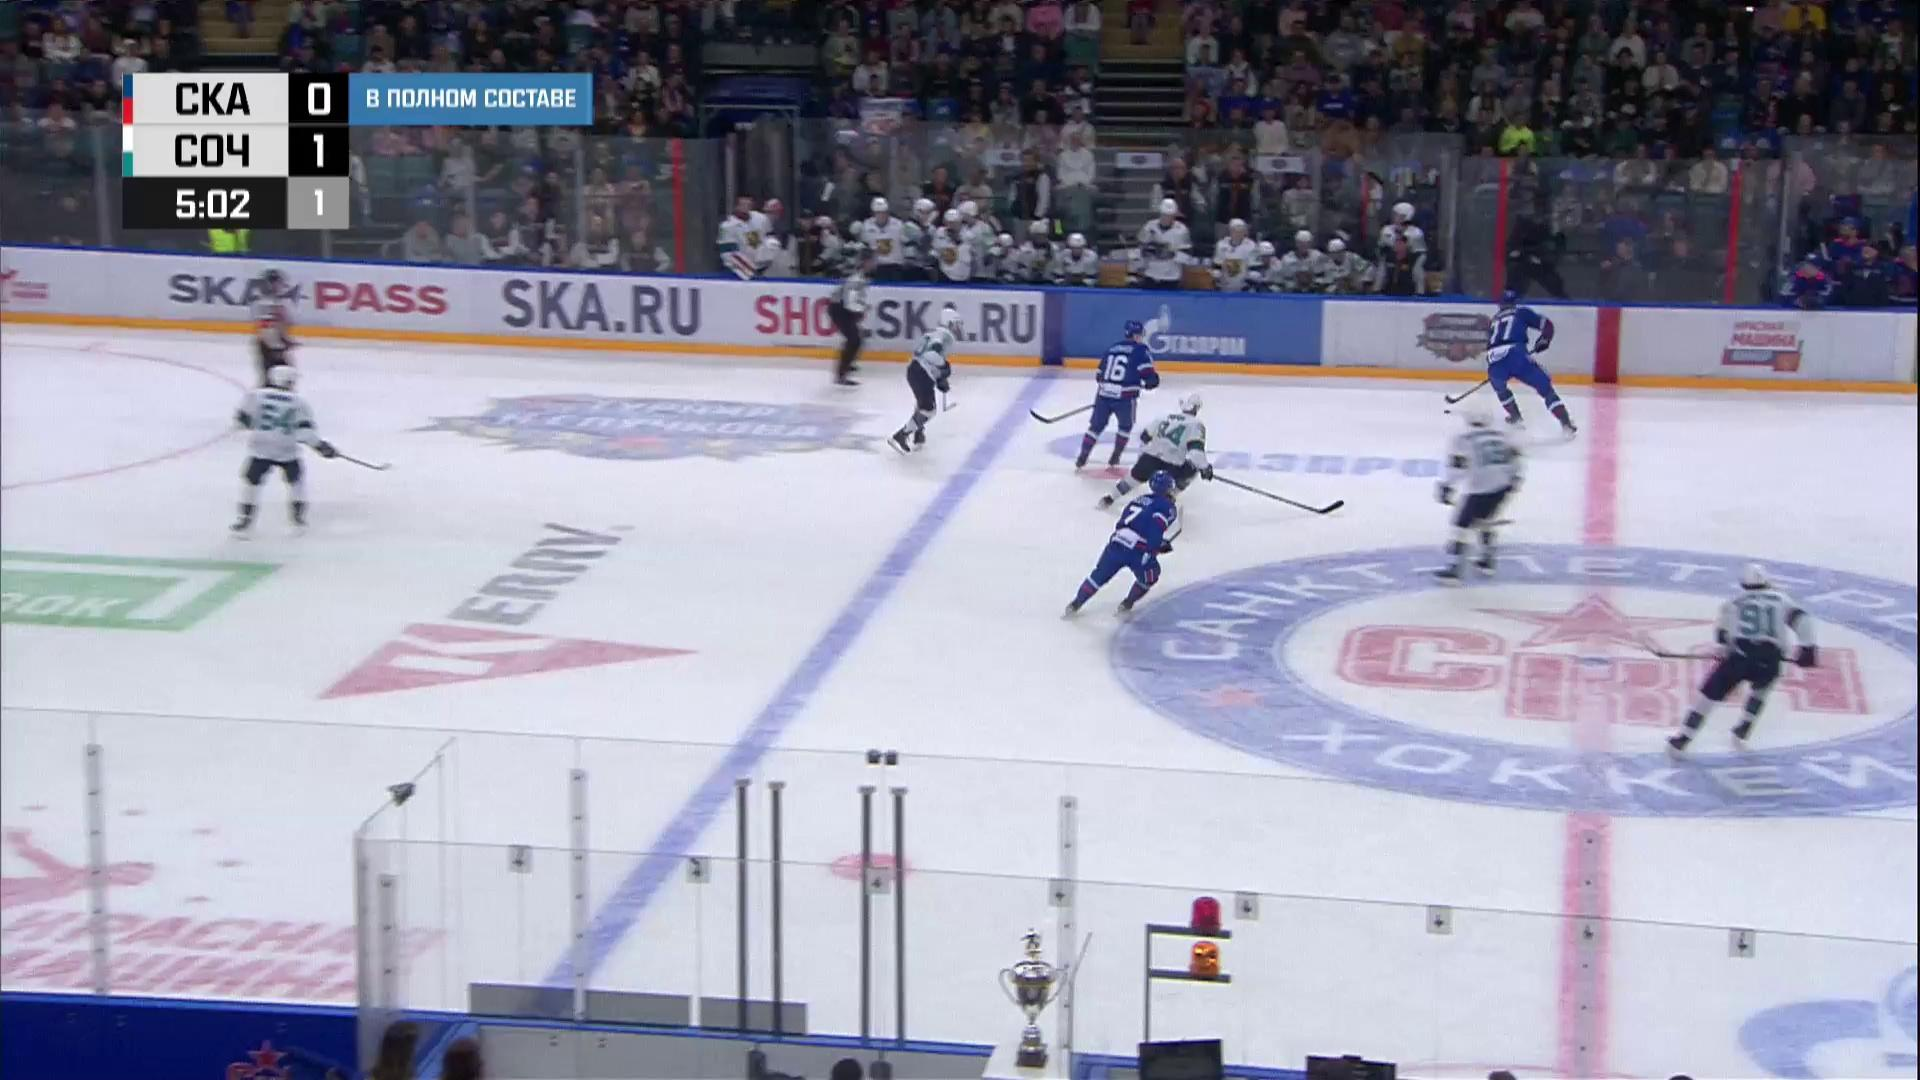ball: (1444, 409, 1452, 415)
